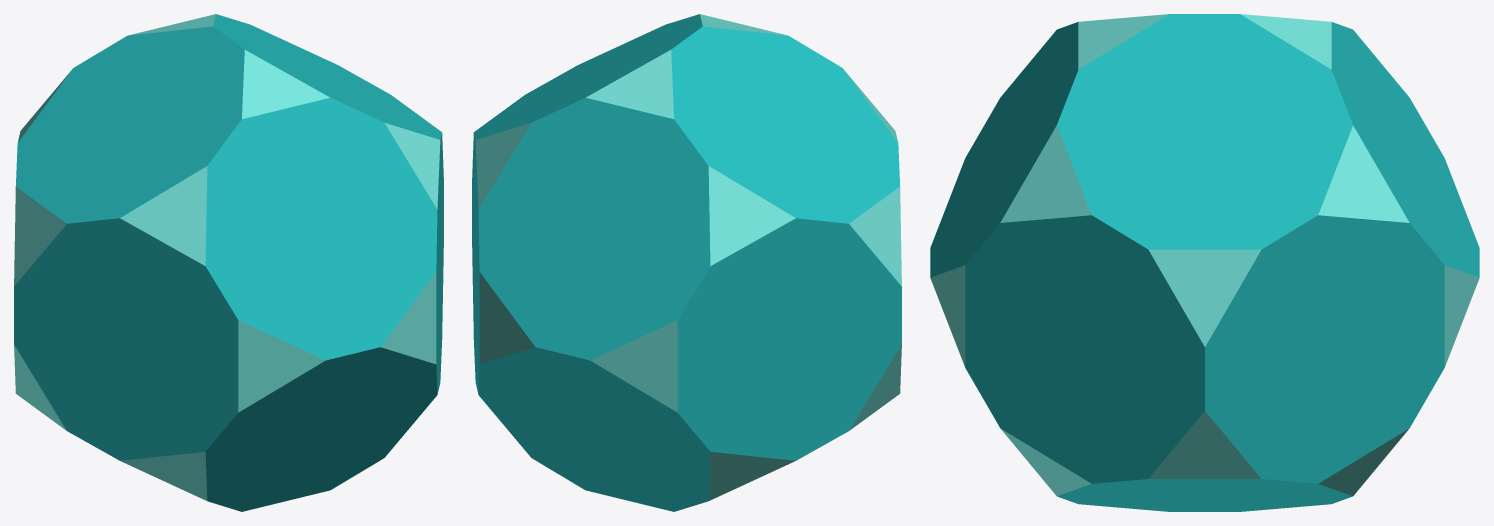
File: 13.DodecaedroTruncado.gltf
3 views of the same model, side by side, from view 1: azimuth 30°, elevation 25°; view 2: azimuth 150°, elevation 25°; view 3: azimuth 270°, elevation 25° (orthographic). The views are drawn at different scales.
Parts seen in each view (by area): view 1: Solid; view 2: Solid; view 3: Solid.
Part boxes in pixels (x1,y1,x2,y2): Solid: [14, 14, 443, 511]; Solid: [472, 14, 901, 511]; Solid: [930, 14, 1479, 511].
Bounding box in the file's own units: 1.87 × 1.87 × 1.87.
